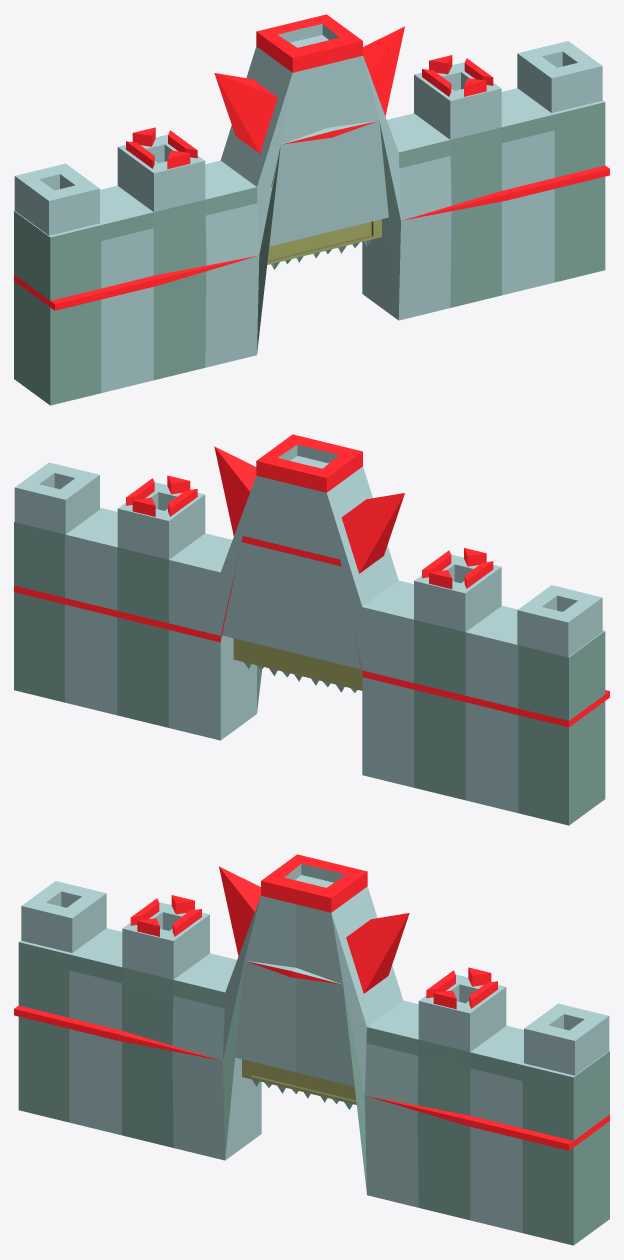
File: Gate.fbx
The picture shows the model from 3 angles, top to bottom: view 1: azimuth 30°, elevation 25°; view 2: azimuth 150°, elevation 25°; view 3: azimuth 330°, elevation 25°; orthographic projection.
Parts seen in each view (by area): view 1: Куб; view 2: Куб; view 3: Куб.
Part boxes in pixels (x1=…): Куб: x1=14, y1=14, x2=609, y2=405; Куб: x1=14, y1=434, x2=609, y2=825; Куб: x1=14, y1=854, x2=609, y2=1245.
Bounding box in the file's own units: 1764 × 876 × 225.
